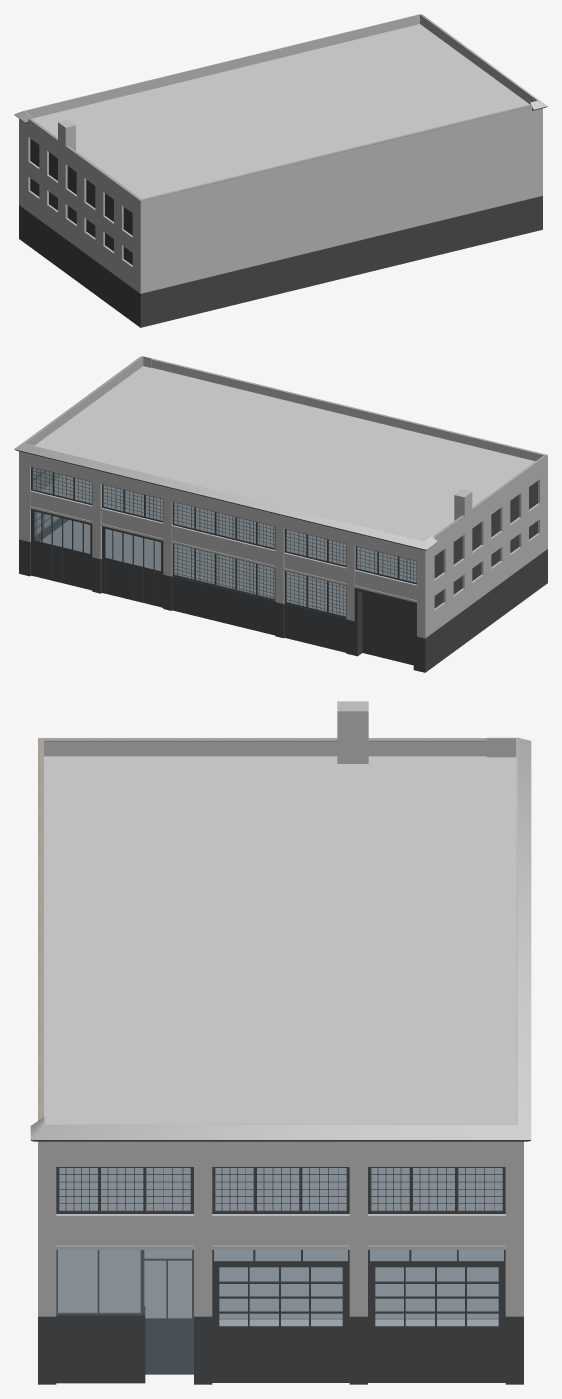
Rendered from A23_Building08.fbx.
The picture shows the model from 3 angles, top to bottom: view 1: azimuth 30°, elevation 25°; view 2: azimuth 150°, elevation 25°; view 3: azimuth 270°, elevation 25°; orthographic projection. The views are drawn at different scales.
Parts seen in each view (by area): view 1: BD1644; view 2: BD1644; view 3: BD1644.
Boxes of the visible parts, x1=… form: BD1644: x1=14, y1=14, x2=547, y2=327; BD1644: x1=14, y1=356, x2=547, y2=672; BD1644: x1=30, y1=701, x2=531, y2=1384.
Bounding box in the file's own units: 31.46 × 10.69 × 16.7.
